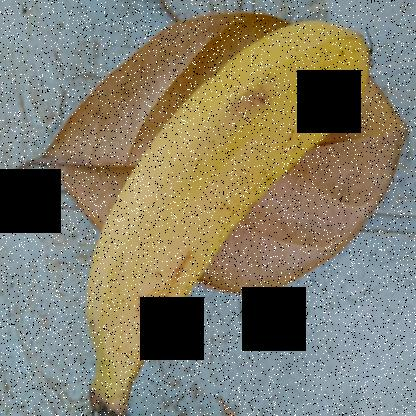ripe: (73, 19, 377, 370)
